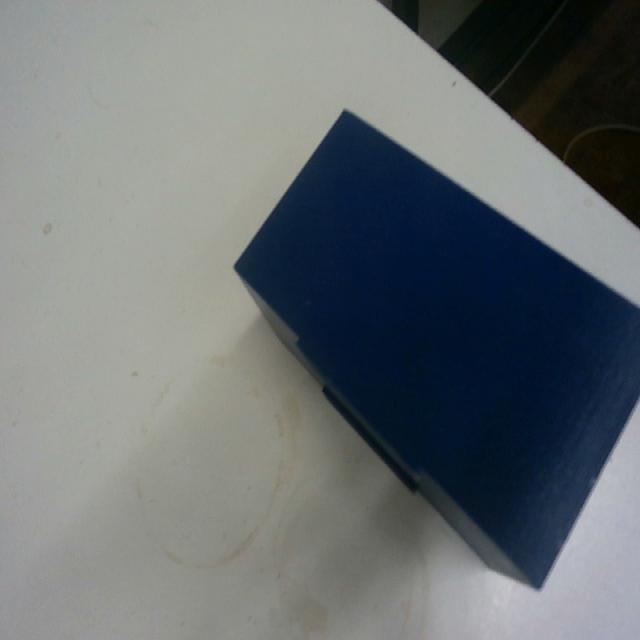Blue Cuboid: (231, 105, 639, 591)
